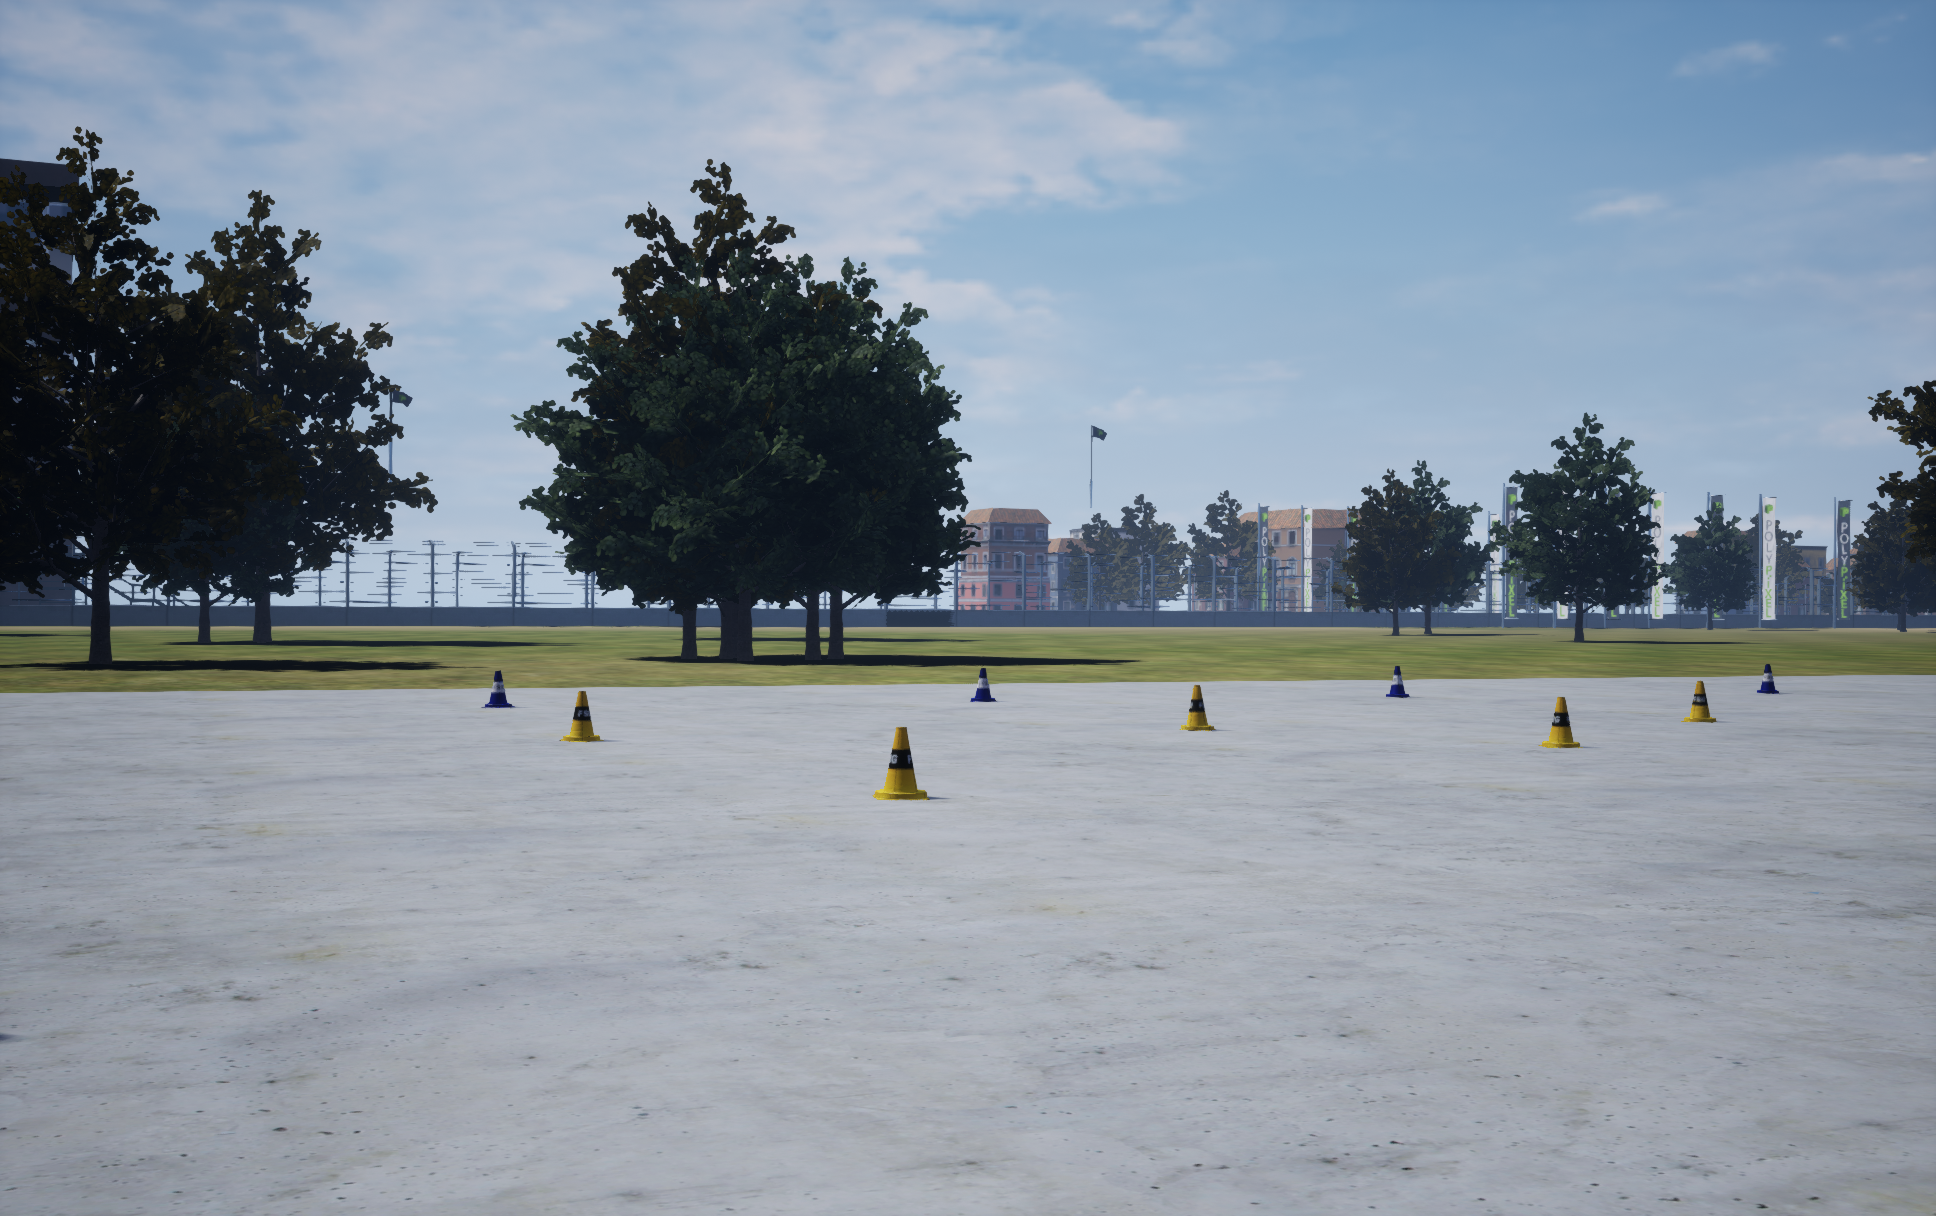blue: (871, 727, 929, 799), (559, 691, 602, 741), (1538, 698, 1582, 747), (1180, 685, 1215, 730), (1681, 681, 1716, 721)
yellow: (480, 670, 514, 707), (969, 668, 996, 700), (1385, 665, 1409, 698), (1757, 664, 1778, 693)
